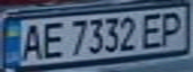2: (118, 12, 142, 52)
3: (84, 16, 106, 55), (103, 15, 124, 53)
7: (66, 17, 87, 56)
A: (18, 20, 45, 62)
E: (136, 10, 169, 49), (36, 19, 66, 61)
P: (157, 9, 190, 46)
